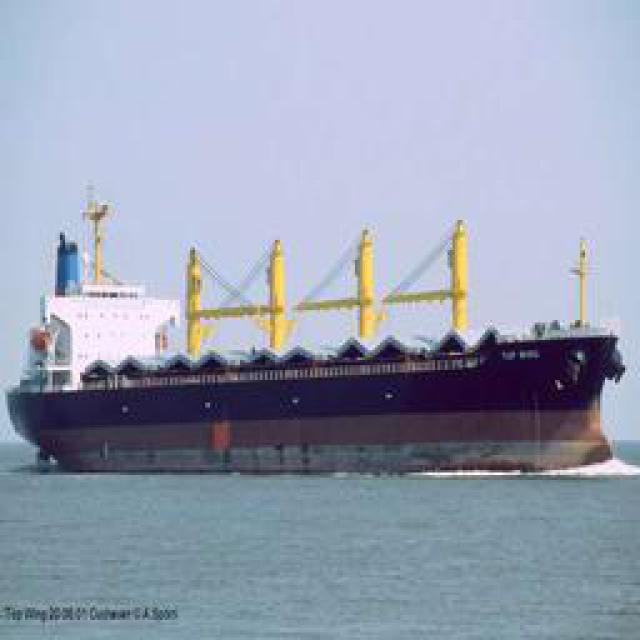Ship: (10, 223, 613, 478)
